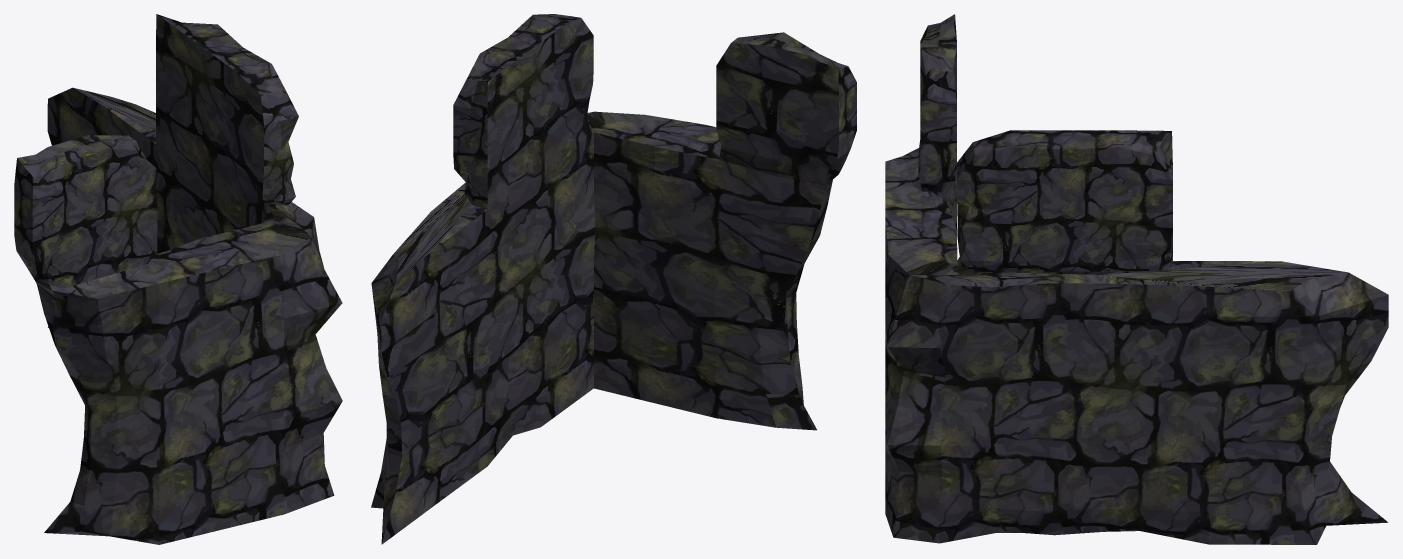
File: Ruins_corner_01.fbx
3 renders of one model, left to right at view 1: azimuth 30°, elevation 25°; view 2: azimuth 150°, elevation 25°; view 3: azimuth 270°, elevation 25°, orthographic.
Visible parts, largest first — view 1: Ruins_Corner_01; view 2: Ruins_Corner_01; view 3: Ruins_Corner_01.
Boxes of the visible parts, <box> form: Ruins_Corner_01: <box>14,14,342,544</box>; Ruins_Corner_01: <box>371,14,856,544</box>; Ruins_Corner_01: <box>885,14,1388,544</box>.
Bounding box in the file's own units: 0.5934 × 0.7524 × 0.8746.
Materials: 1 (1 with a texture image).
